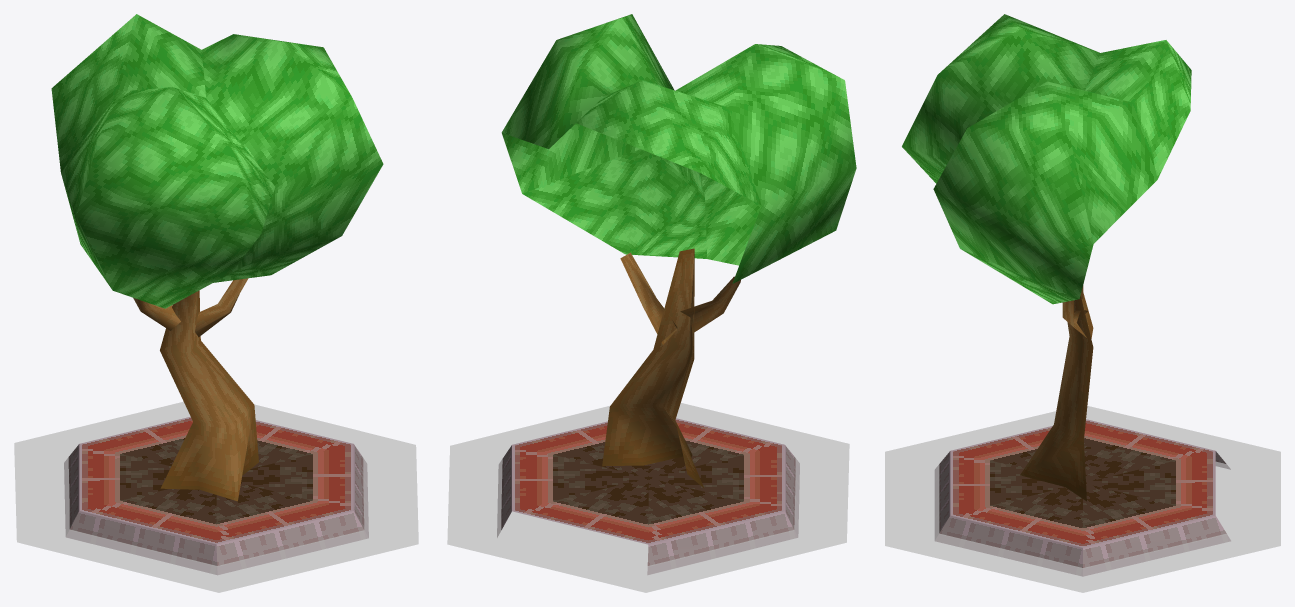
The model's file is Basic.obj.
3 renders of one model, left to right at view 1: azimuth 30°, elevation 25°; view 2: azimuth 150°, elevation 25°; view 3: azimuth 270°, elevation 25°, orthographic. The views are drawn at different scales.
Parts seen in each view (by area): view 1: polygon3, polygon1, polygon0, polygon2; view 2: polygon3, polygon1, polygon0, polygon2; view 3: polygon3, polygon1, polygon0, polygon2.
Part boxes in pixels (x1,y1,x2,y2): polygon3: (51, 14, 383, 308); polygon1: (64, 416, 368, 574); polygon0: (14, 401, 418, 592); polygon2: (133, 278, 258, 501); polygon3: (501, 14, 856, 283); polygon1: (497, 418, 799, 574); polygon0: (447, 403, 849, 592); polygon2: (602, 248, 740, 488); polygon3: (902, 14, 1191, 304); polygon1: (935, 419, 1230, 576); polygon0: (885, 406, 1280, 592); polygon2: (1020, 285, 1093, 501).
Bounding box in the file's own units: 4.5 × 5 × 4.
